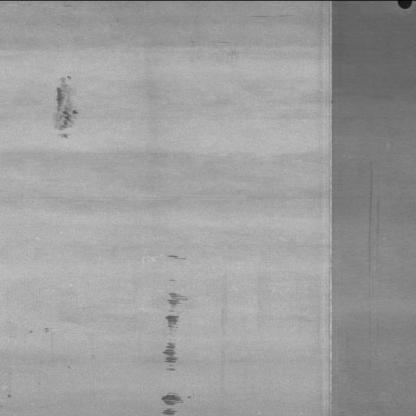inclusion: (48, 73, 83, 138)
punching_hole: (392, 0, 415, 12)
rolled_pit: (158, 245, 192, 416)
welding_line: (314, 0, 348, 416)
